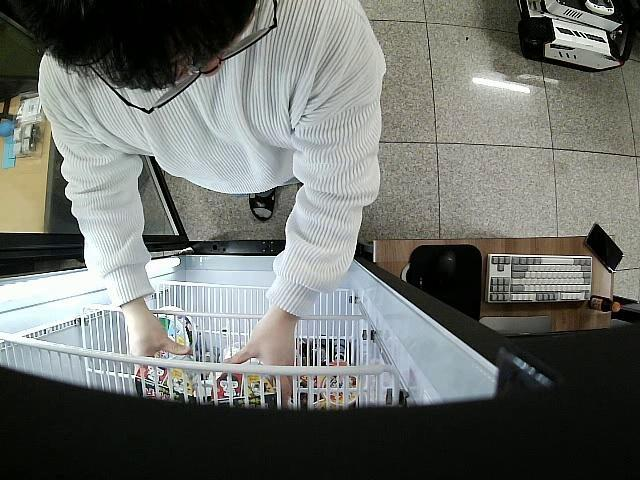08_buldak_S: (134, 357, 192, 402), (216, 373, 280, 410)
